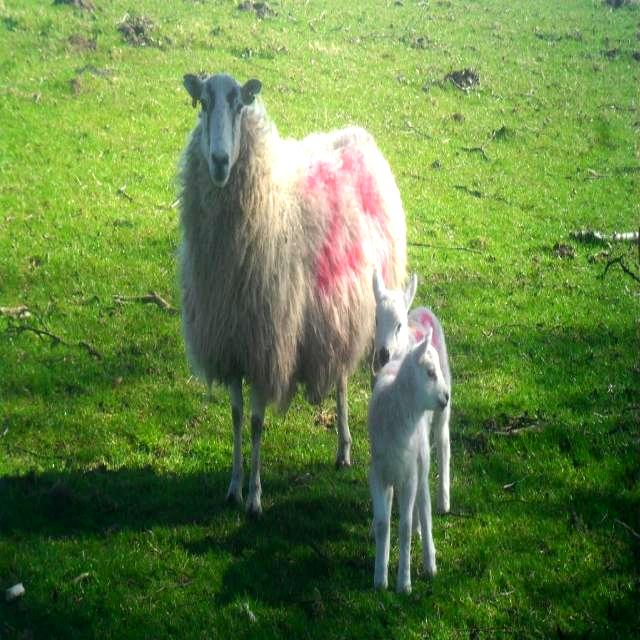sheep: (173, 74, 407, 490), (367, 336, 447, 588), (373, 271, 450, 510)
